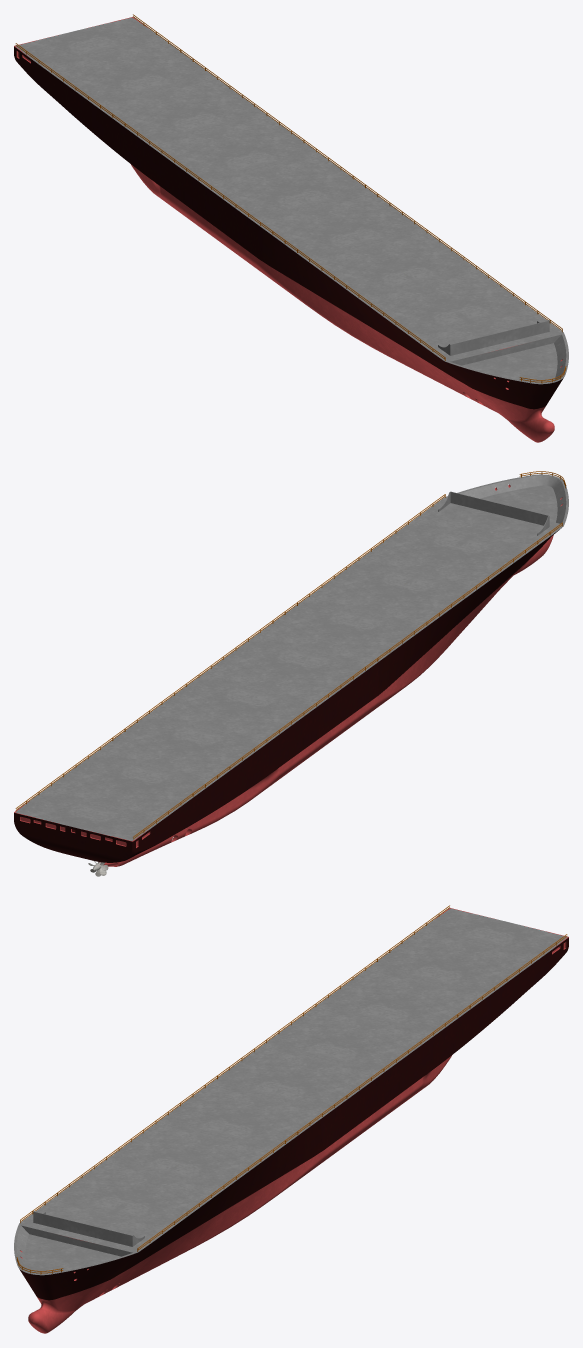
The model's file is ship.glb.
3 views of the same model, one above another, from view 1: azimuth 30°, elevation 25°; view 2: azimuth 150°, elevation 25°; view 3: azimuth 330°, elevation 25° (orthographic).
Visible parts, largest first — view 1: ship; view 2: ship; view 3: ship.
Boxes of the visible parts, bbox=[...] form: ship: bbox=[14, 14, 568, 442]; ship: bbox=[14, 471, 568, 876]; ship: bbox=[14, 905, 568, 1333].
Size of the model in its own units: 5.6 by 3.69 by 39.
Materials: 1 (1 with a texture image).
